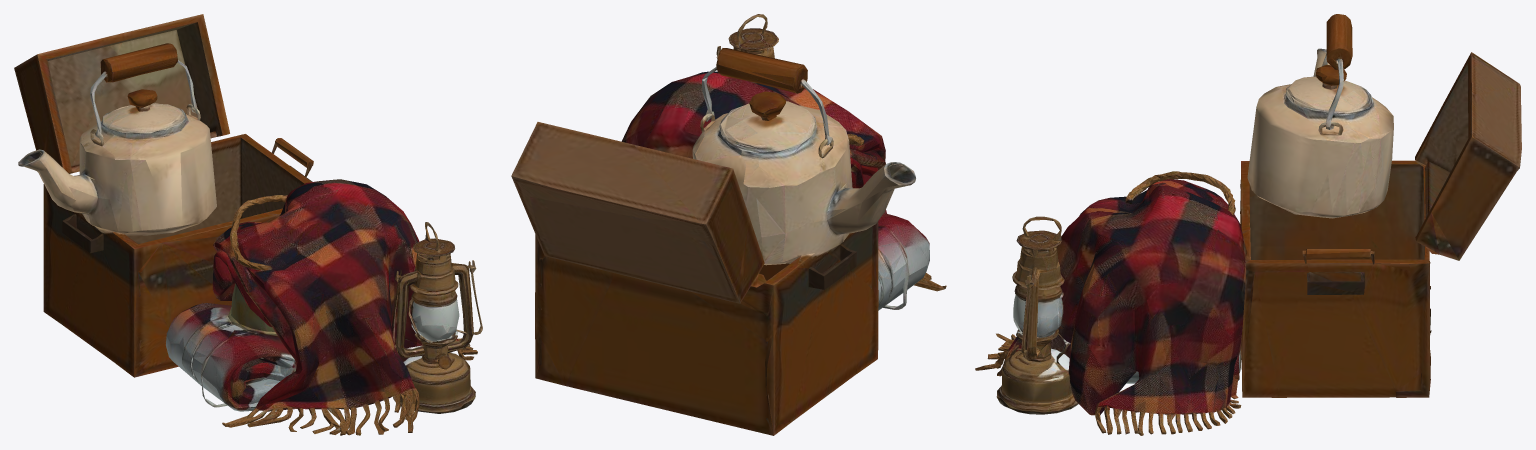
Rendered from kit.glb.
The picture shows the model from 3 angles, left to right: view 1: azimuth 30°, elevation 25°; view 2: azimuth 150°, elevation 25°; view 3: azimuth 270°, elevation 25°; orthographic projection. The views are drawn at different scales.
Bounding box in the file's own units: 0.6269 × 0.4756 × 0.8.
Materials: 1 (1 with a texture image).
